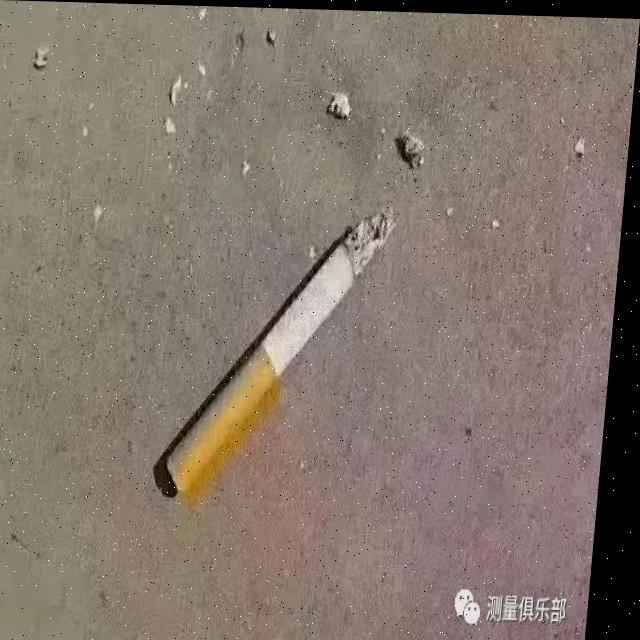cigarette: (168, 197, 400, 499)
